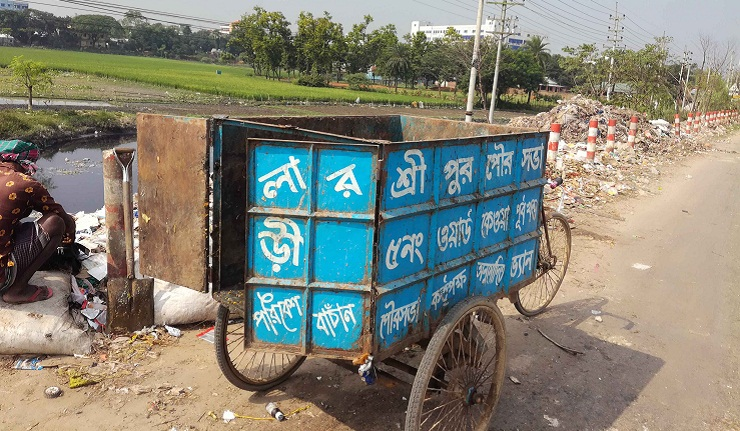garbagevan: (135, 112, 574, 431)
